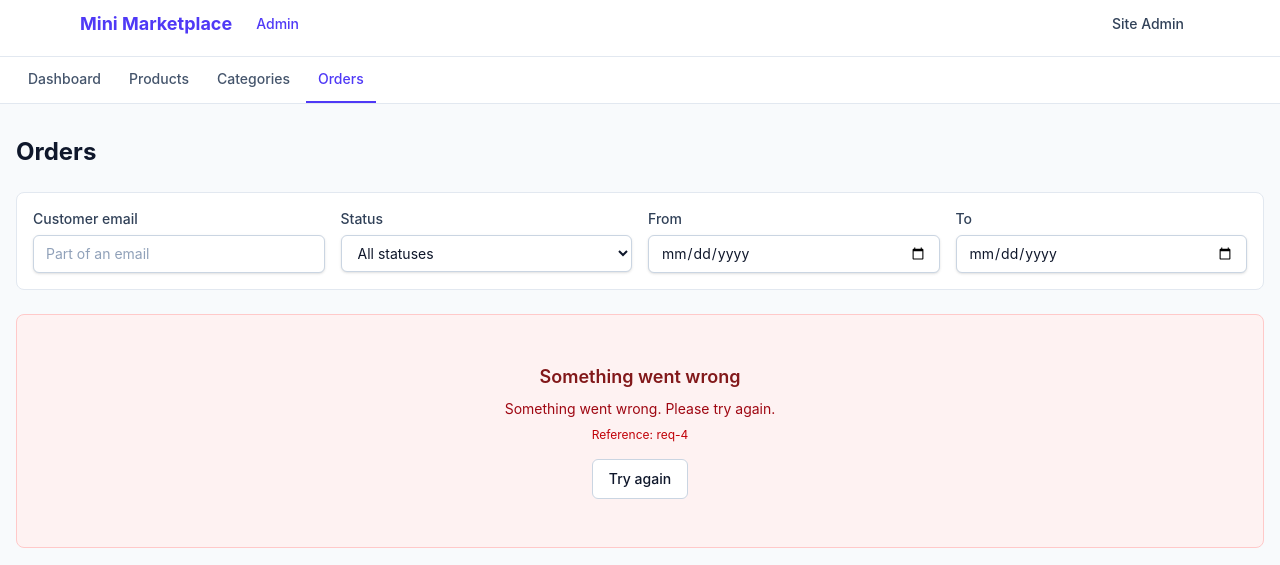
Test case: the admin order table › shows the error with a retry
Expected: the message shows "Something went wrong", [540,366,740,387]
Click the button "Try again".
click(640, 479)  # box [592,459,688,499]
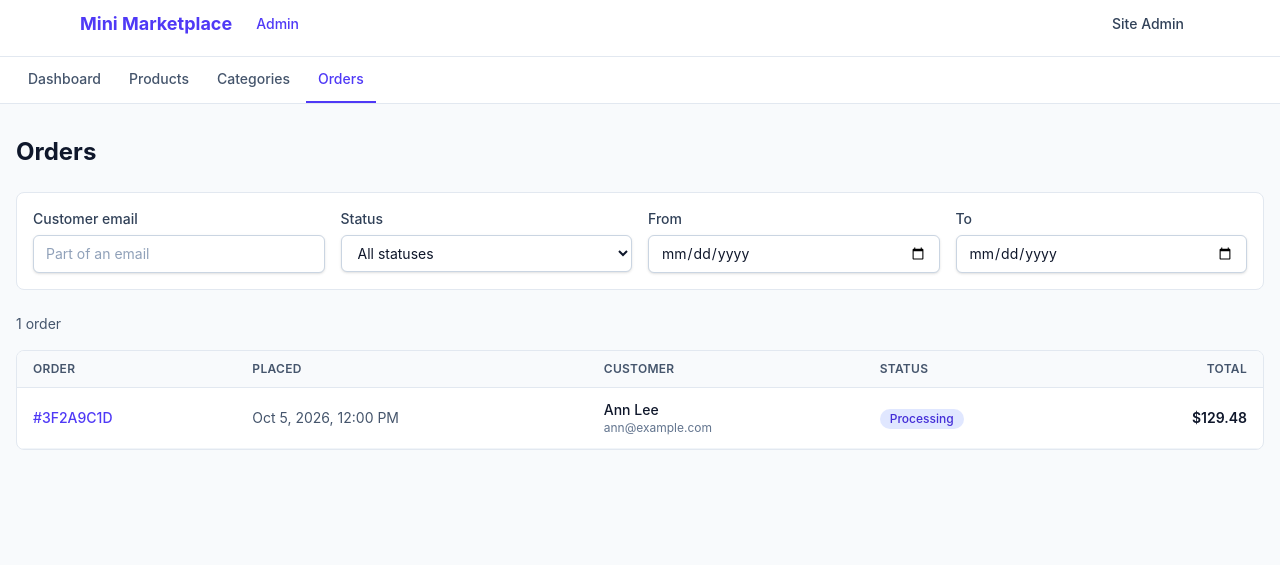
Expected: the link "#3F2A9C1D" is shown, [33,409,112,426]
